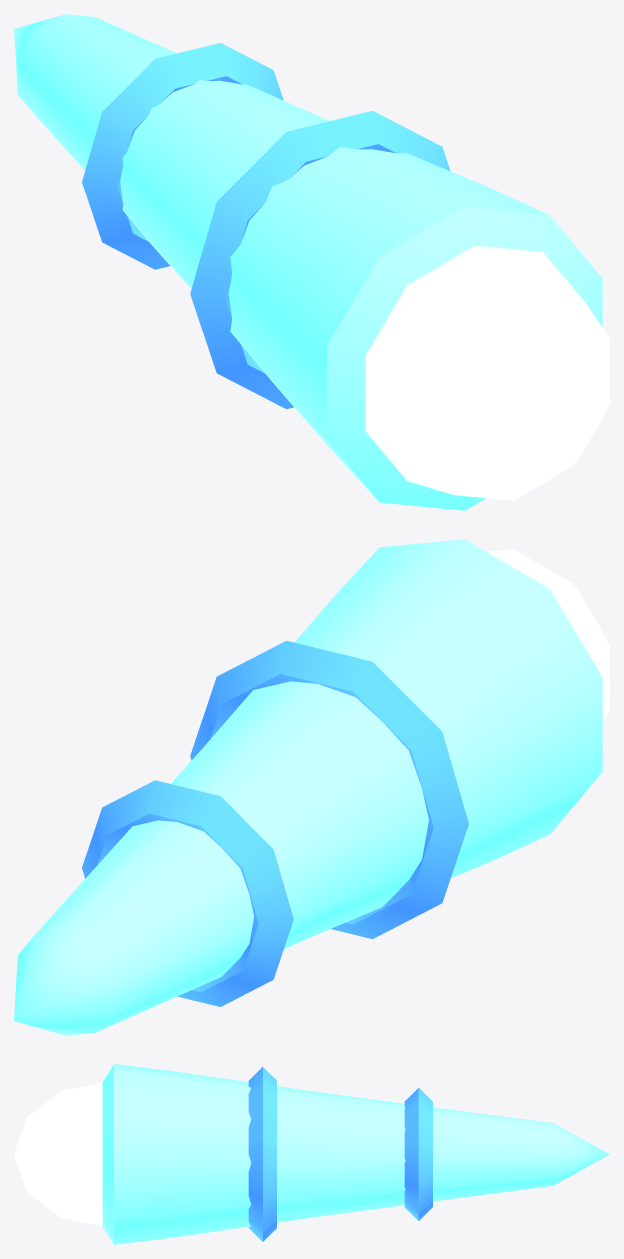
The model's file is relativistic_jet.glb.
The picture shows the model from 3 angles, top to bottom: view 1: azimuth 30°, elevation 25°; view 2: azimuth 150°, elevation 25°; view 3: azimuth 270°, elevation 25°; orthographic projection. The views are drawn at different scales.
Parts seen in each view (by area): view 1: body; view 2: body; view 3: body.
Boxes of the visible parts, <box> form: body: <box>14,14,609,510</box>; body: <box>14,539,609,1035</box>; body: <box>14,1064,609,1244</box>.
Size of the model in its own units: 50 by 52 by 168.
